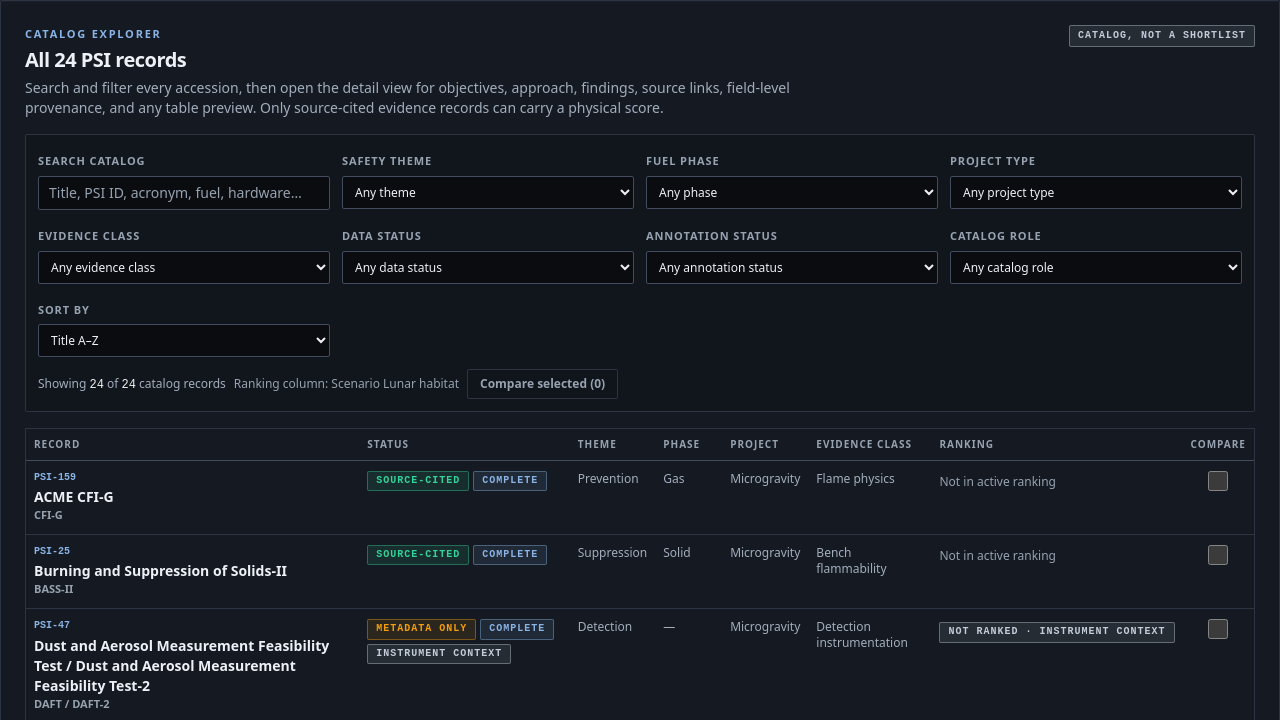
Test: CatalogExplorer — filters › counts active filters and resets them with one click
The image size is (1280, 720).
Select "Detection" in the dropdown labelled "Safety theme": (488, 192) [342, 176, 634, 209]
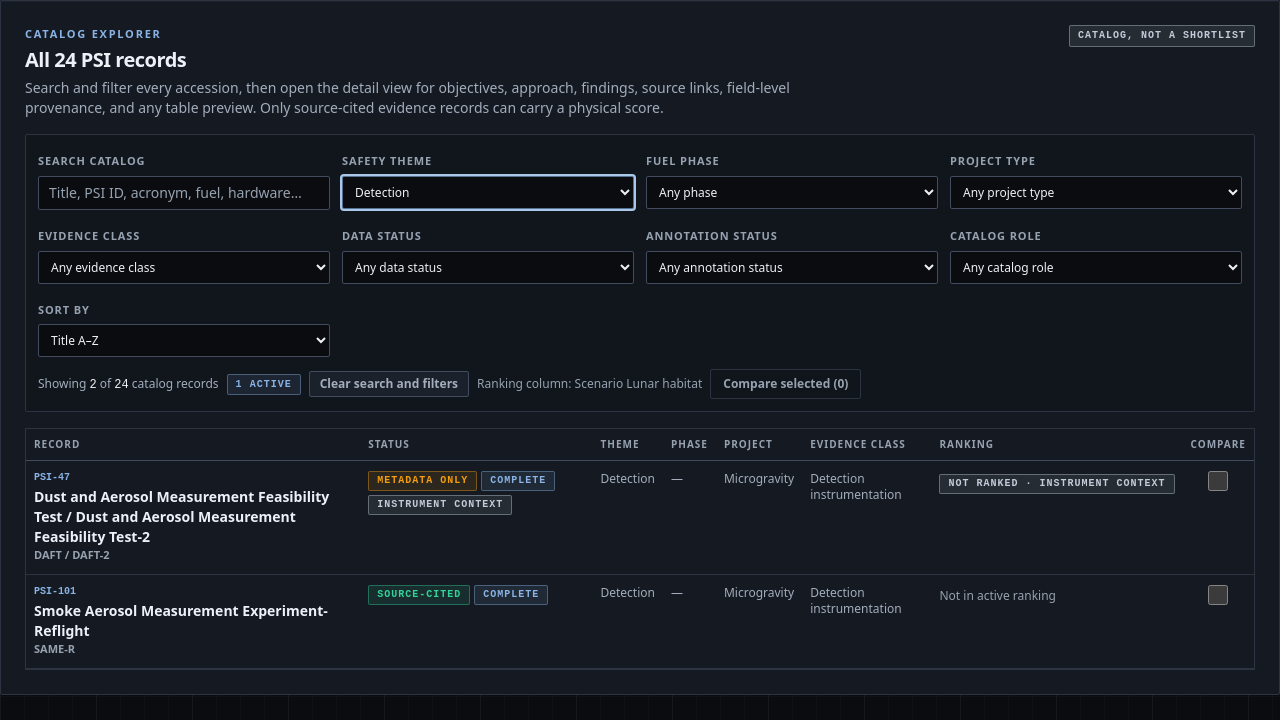
Select "Source-cited" in the dropdown labelled "Annotation status": (792, 267) [646, 251, 938, 284]
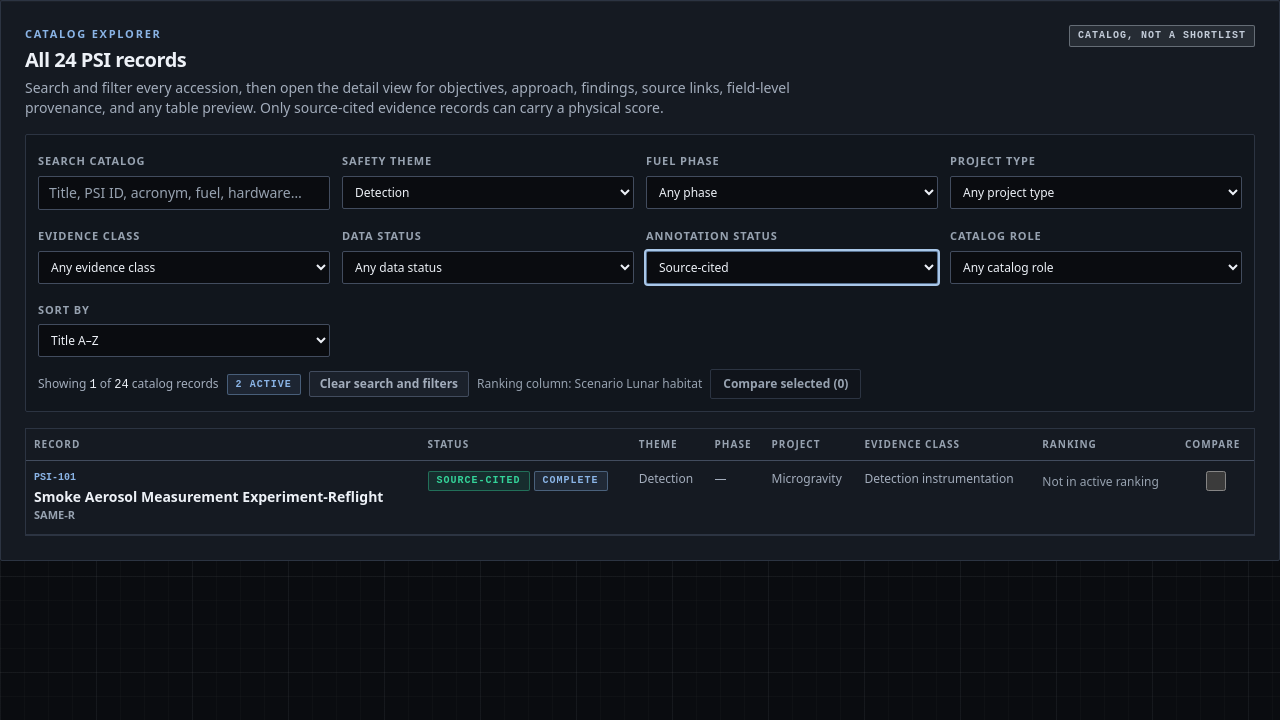
In the search field labelled "Search catalog": (184, 193) [38, 176, 330, 210], type "DAFT"
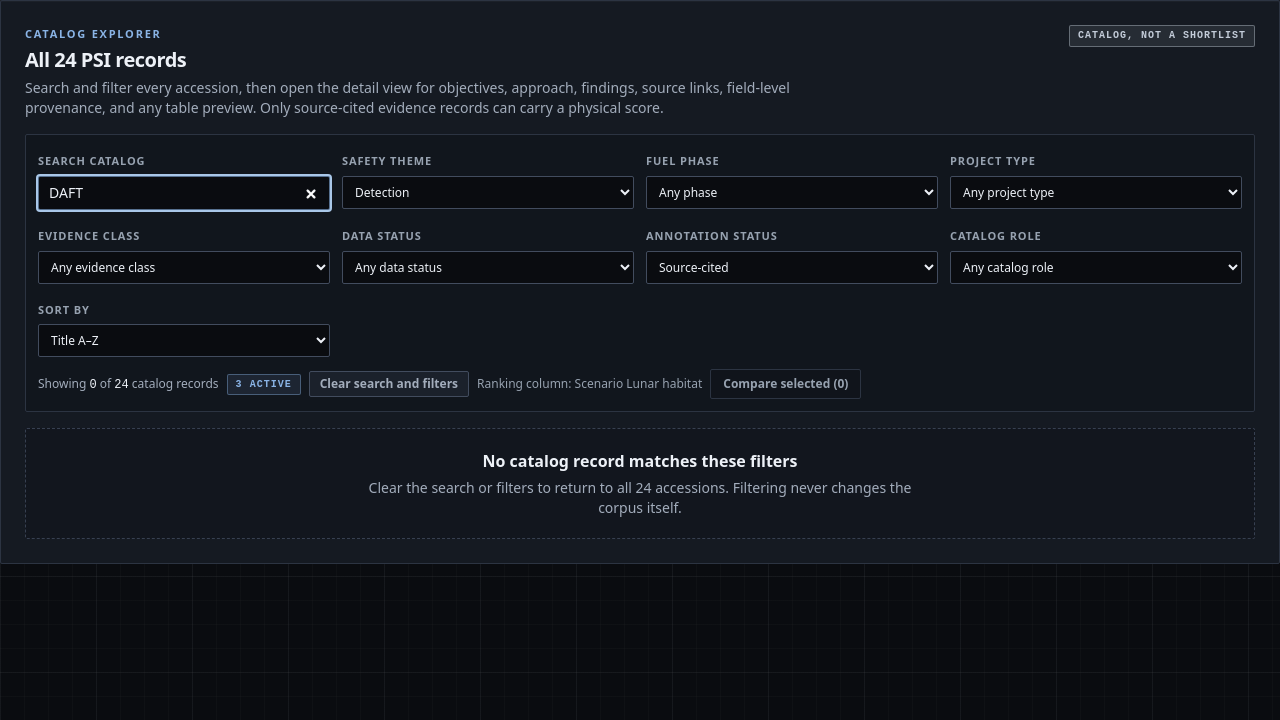
Check: the text "3 active" is shown, box [227, 374, 301, 395]
Check: the element showing "Showing 0 of 24 catalog records" is shown, box [38, 376, 219, 393]
Click the button "Clear search and filters": (389, 384) [309, 371, 469, 397]
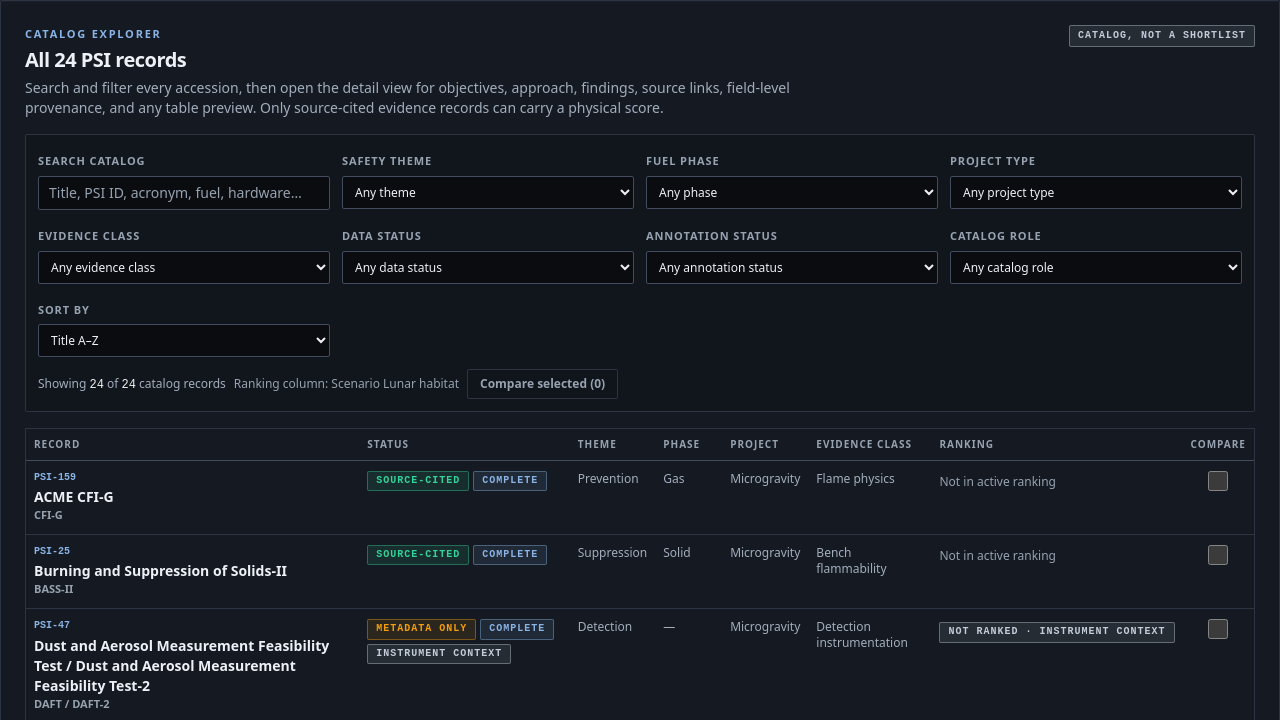
Check: the element showing "Showing 24 of 24 catalog records" is shown, box [38, 376, 226, 393]
Check: the text "3 active" is gone
Check: the search field labelled "Search catalog" is empty, box [38, 176, 330, 210]
